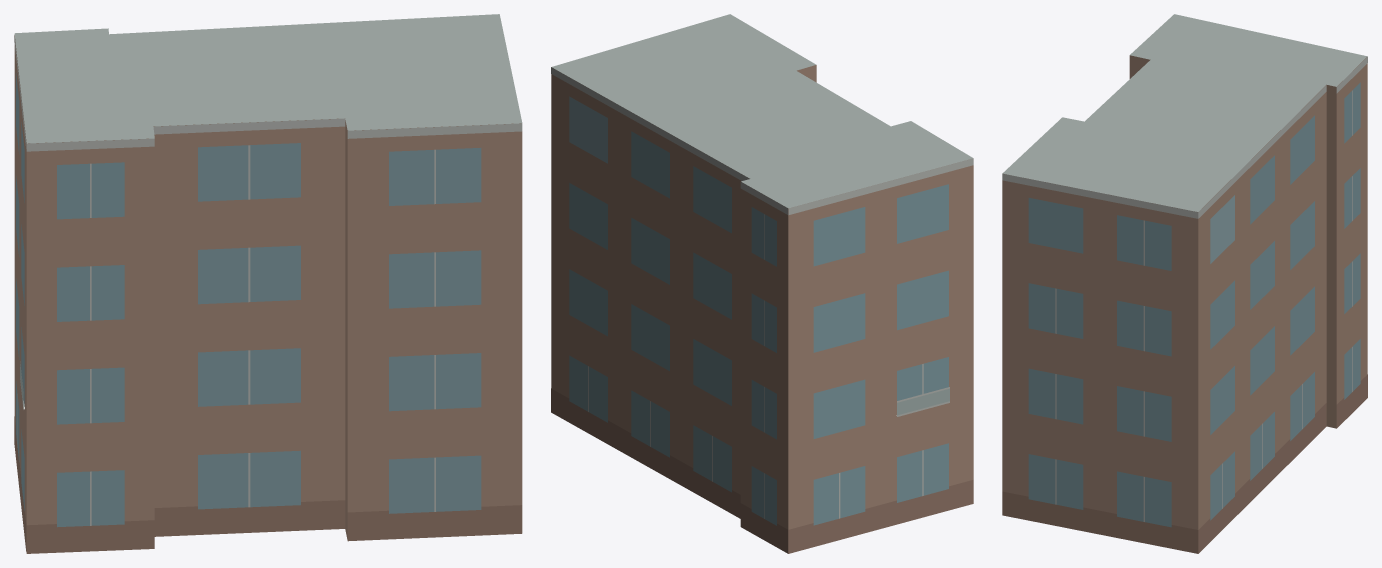
The model's file is survey-upis-32633820.glb.
3 renders of one model, left to right at view 1: azimuth 30°, elevation 25°; view 2: azimuth 150°, elevation 25°; view 3: azimuth 270°, elevation 25°, orthographic. The views are drawn at different scales.
Parts seen in each view (by area): view 1: survey-upis-32633820.tmp; view 2: survey-upis-32633820.tmp; view 3: survey-upis-32633820.tmp.
Part boxes in pixels (left/top/right/bottom): survey-upis-32633820.tmp: left=14, top=14, right=522, bottom=553; survey-upis-32633820.tmp: left=551, top=14, right=973, bottom=553; survey-upis-32633820.tmp: left=1002, top=14, right=1367, bottom=553.
Bounding box in the file's own units: 15.27 × 12.27 × 11.9.
